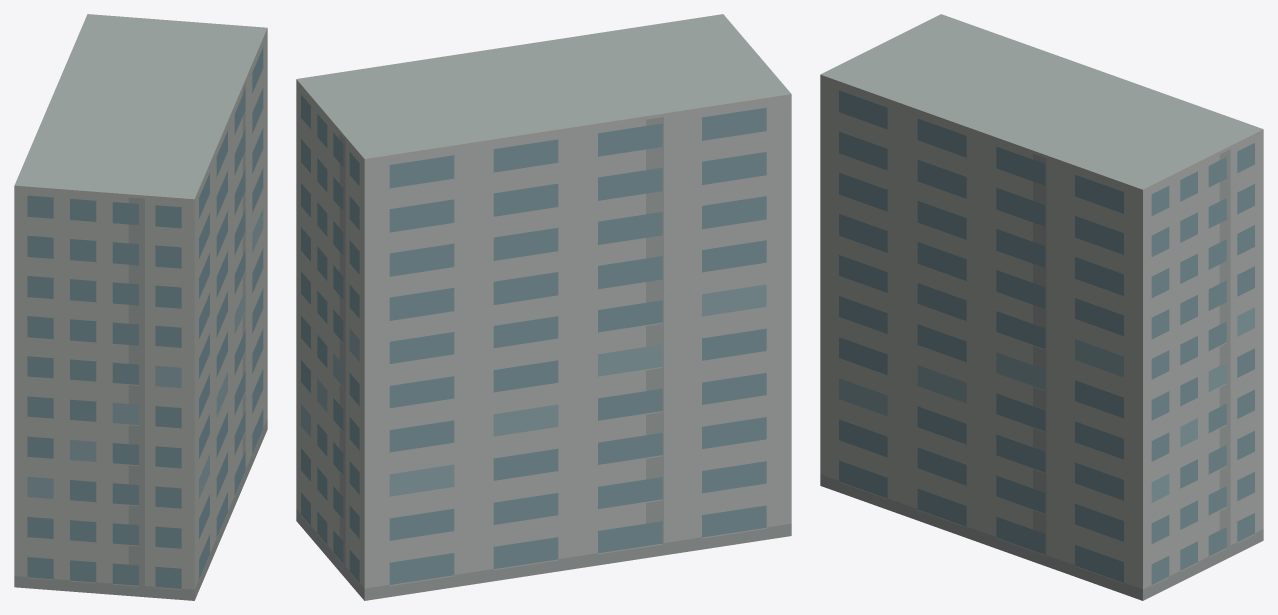
File: residential-6bdaaa60-ee6b-4a2f-a3cf-0448405cbca4.glb
The picture shows the model from 3 angles, left to right: view 1: azimuth 30°, elevation 25°; view 2: azimuth 150°, elevation 25°; view 3: azimuth 270°, elevation 25°; orthographic projection. The views are drawn at different scales.
Parts seen in each view (by area): view 1: residential-6bdaaa60-ee6b-4a2f-a3cf-0448405cbca4.tmp; view 2: residential-6bdaaa60-ee6b-4a2f-a3cf-0448405cbca4.tmp; view 3: residential-6bdaaa60-ee6b-4a2f-a3cf-0448405cbca4.tmp.
Part boxes in pixels (left/top/right/bottom): residential-6bdaaa60-ee6b-4a2f-a3cf-0448405cbca4.tmp: left=14, top=14, right=267, bottom=600; residential-6bdaaa60-ee6b-4a2f-a3cf-0448405cbca4.tmp: left=296, top=14, right=791, bottom=600; residential-6bdaaa60-ee6b-4a2f-a3cf-0448405cbca4.tmp: left=820, top=14, right=1263, bottom=600.
Bounding box in the file's own units: 28.42 × 31 × 30.31.
